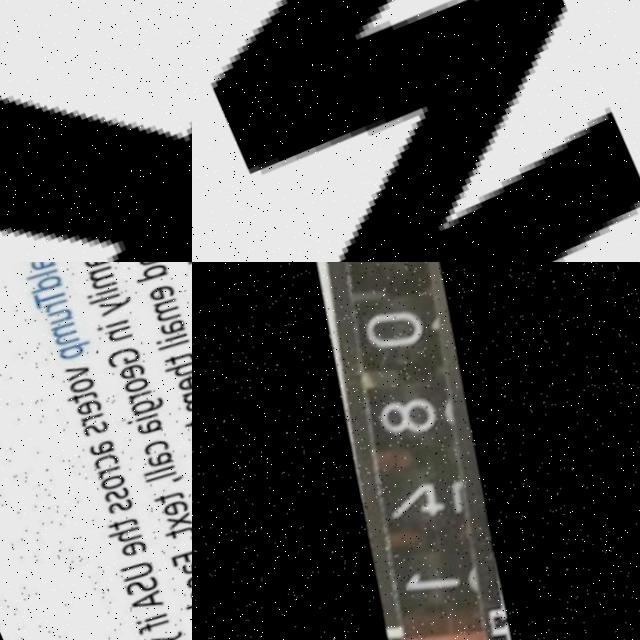0: (351, 283, 436, 362)
1: (397, 539, 475, 609)
4: (374, 456, 460, 535), (396, 618, 482, 640)
8: (366, 370, 450, 450)
M: (192, 0, 640, 262)
X: (0, 0, 192, 262)
